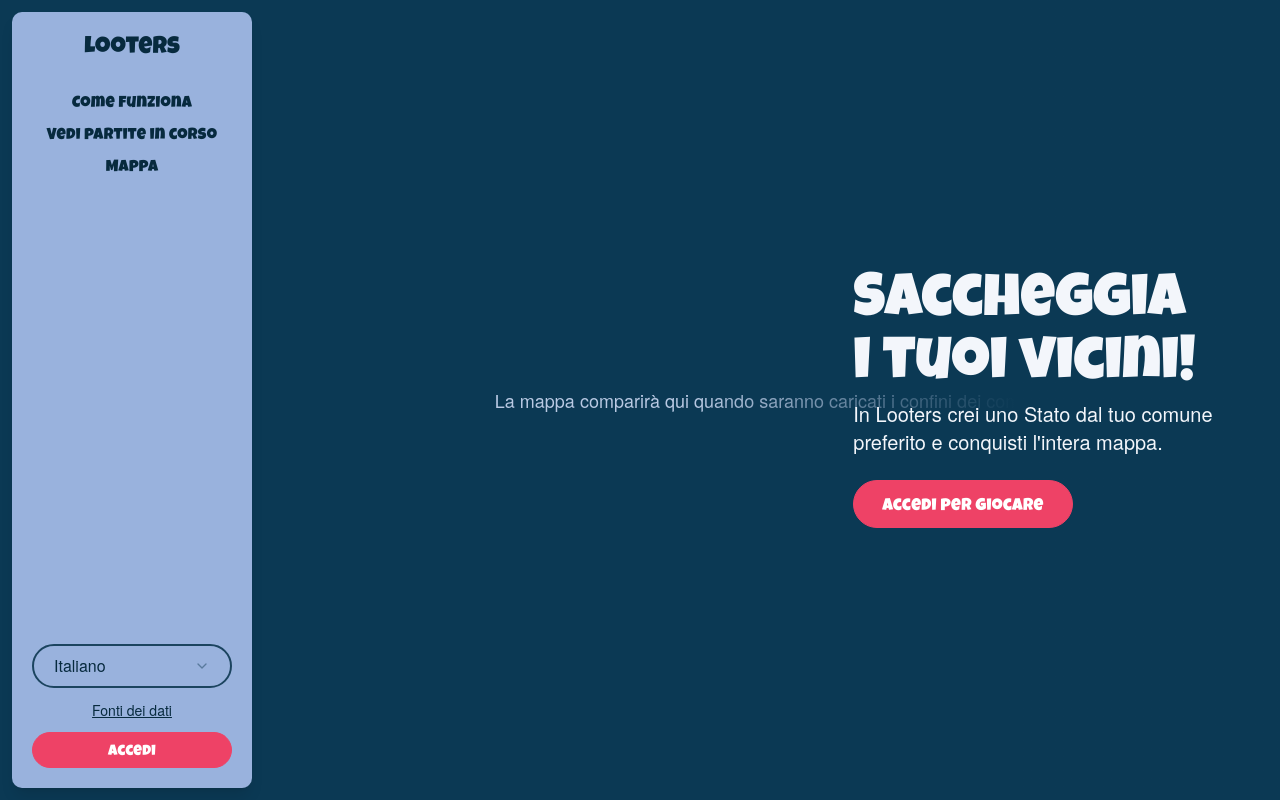
Test: account in the navbar › explains a refused login
Click the link "Accedi". click: (132, 750)
box: [32, 732, 232, 768]
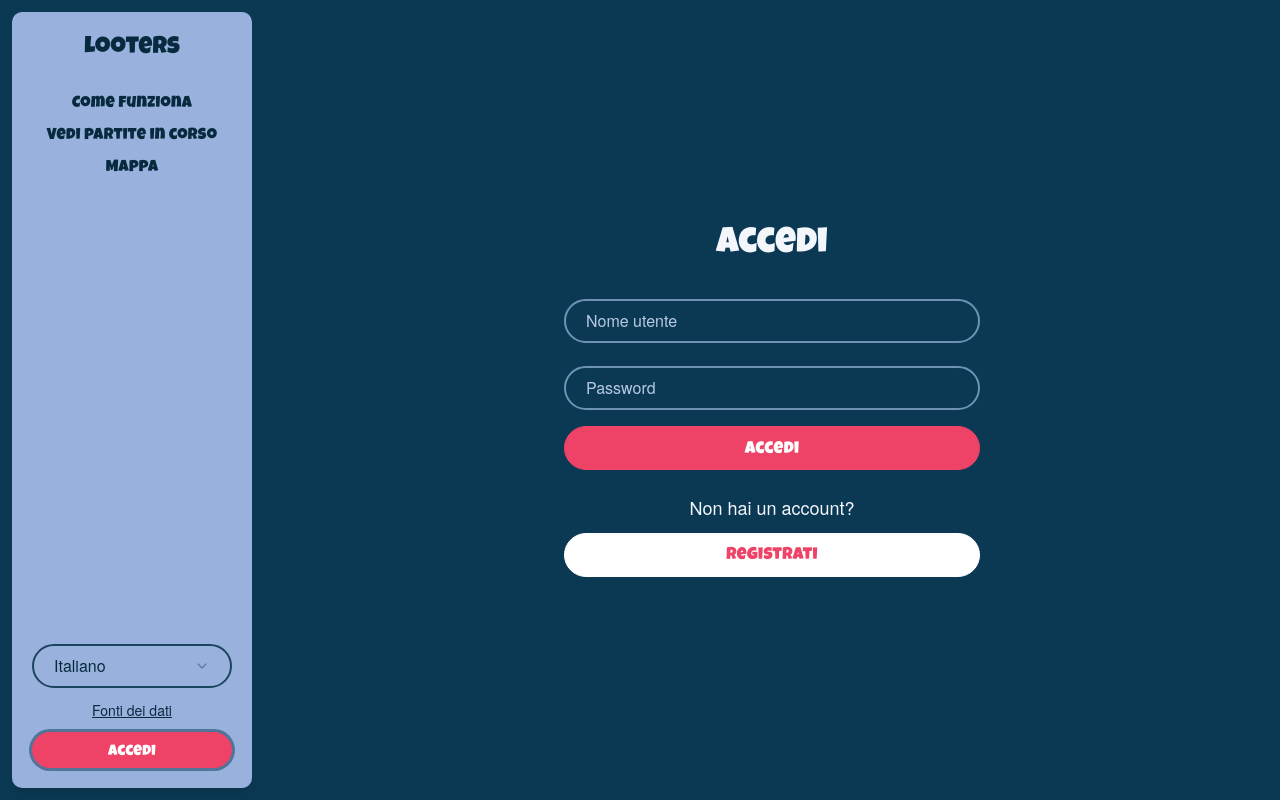
Type "mario_rossi" into the field labelled "Nome utente". click: (772, 322)
box: [564, 300, 980, 344]
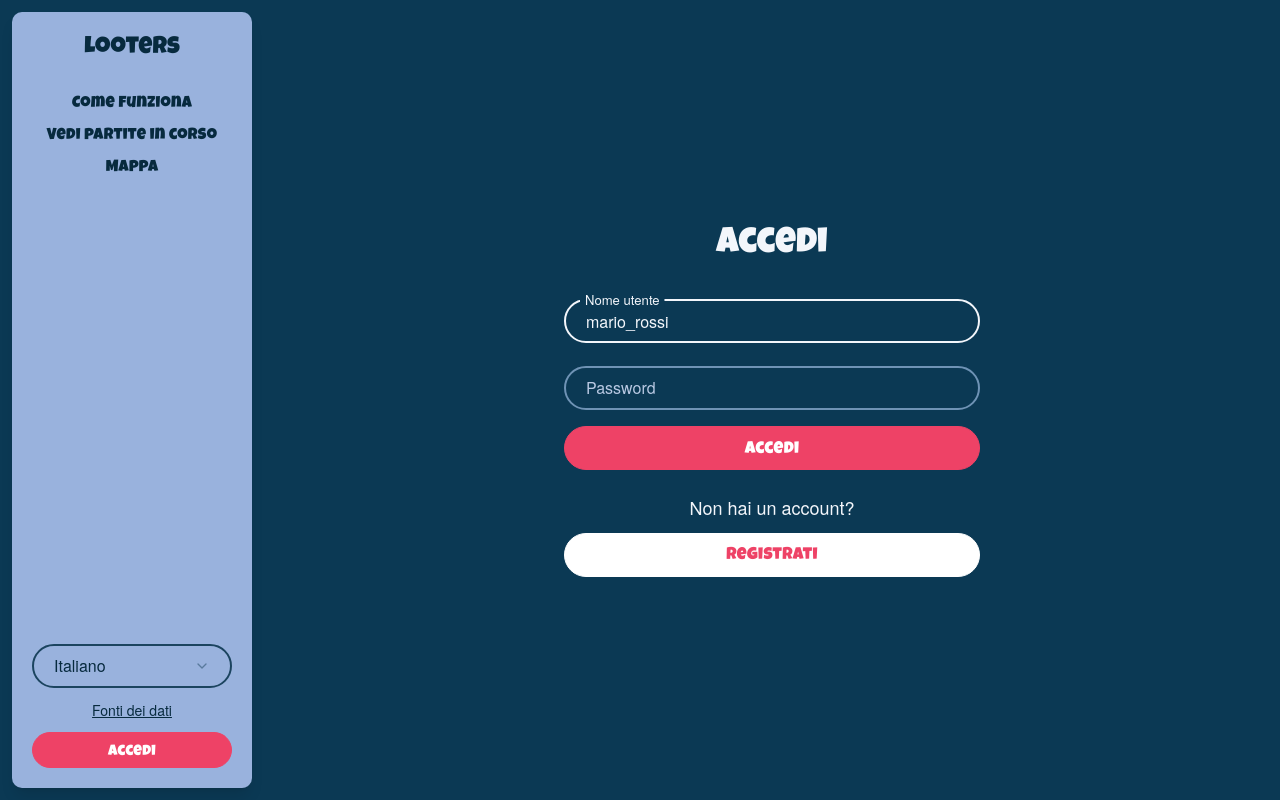
Type "wrong" into the password field labelled "Password". click: (772, 388)
box: [564, 366, 980, 410]
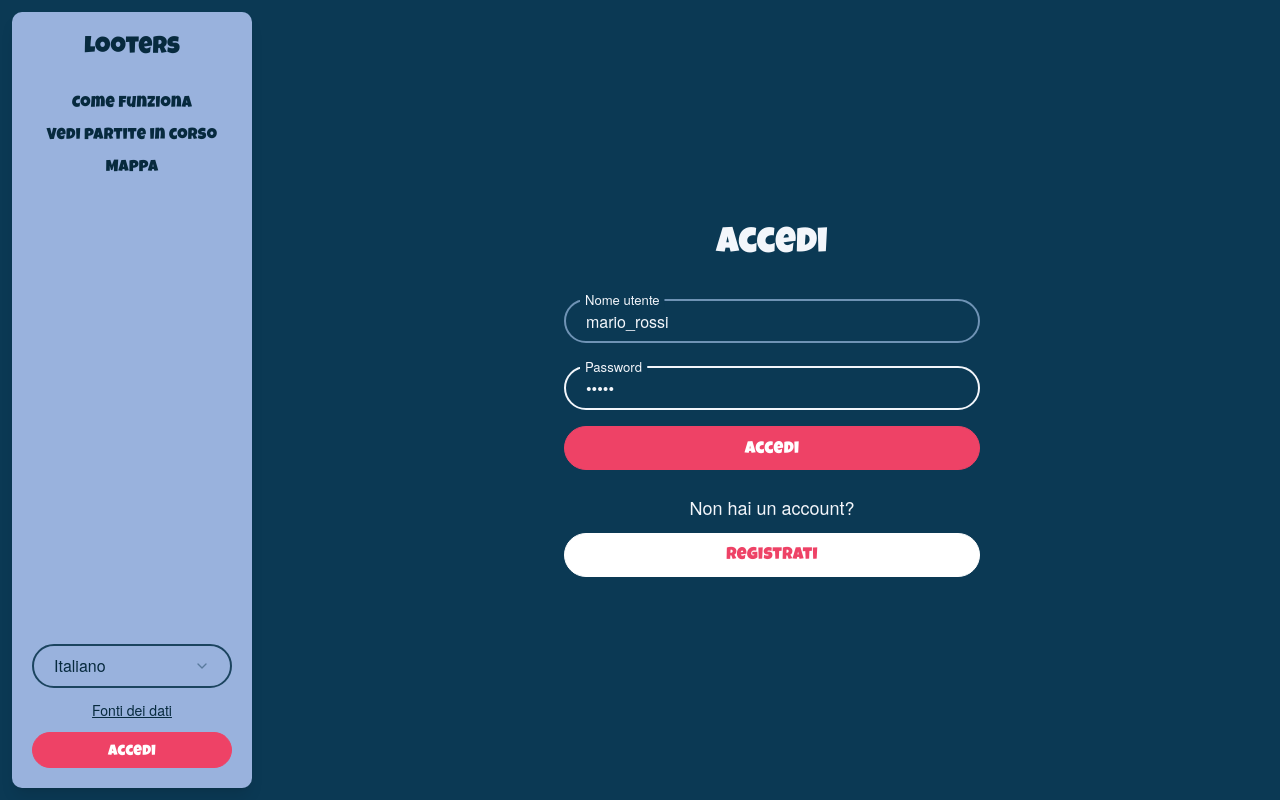
Click the button "Accedi". click: (772, 448)
box: [564, 426, 980, 470]
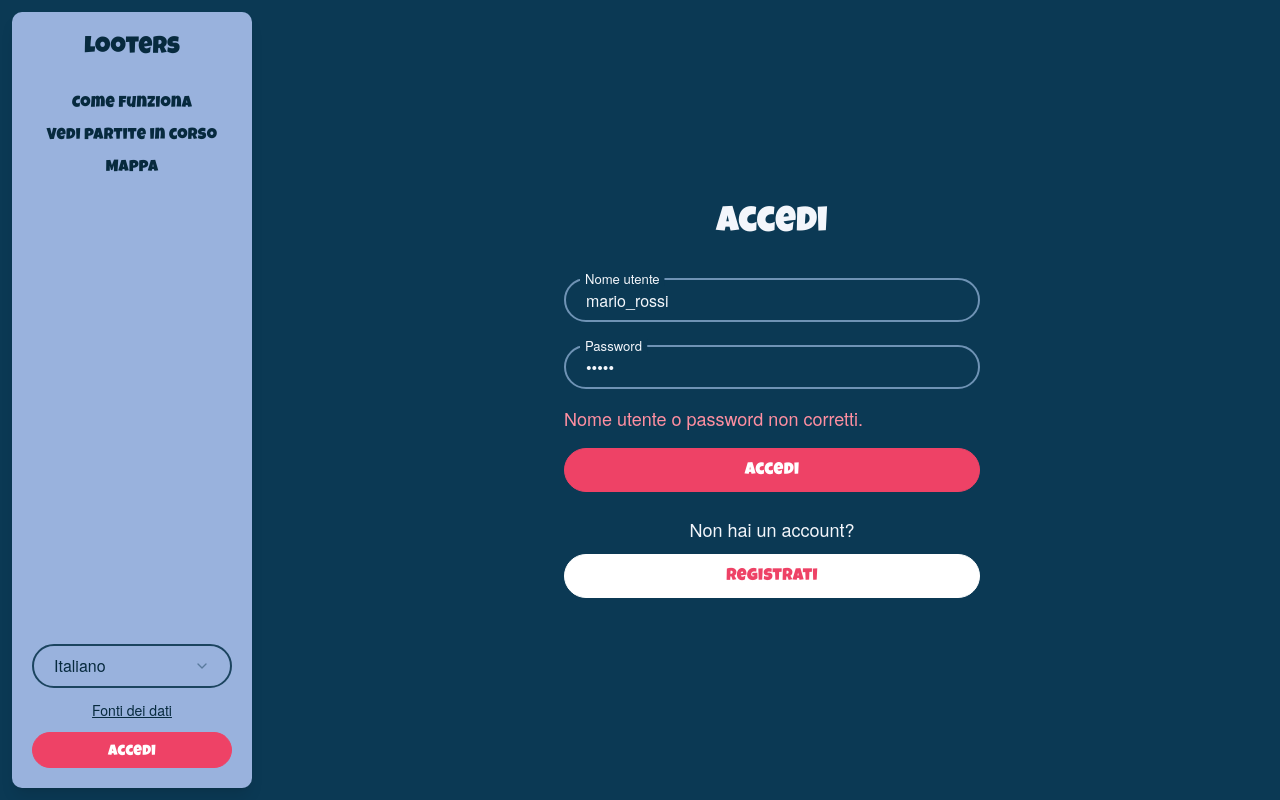
Check: the message reads "Nome utente o password non corretti.", box [564, 405, 863, 431]
